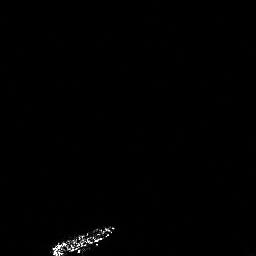ship: (50, 225, 117, 256)
